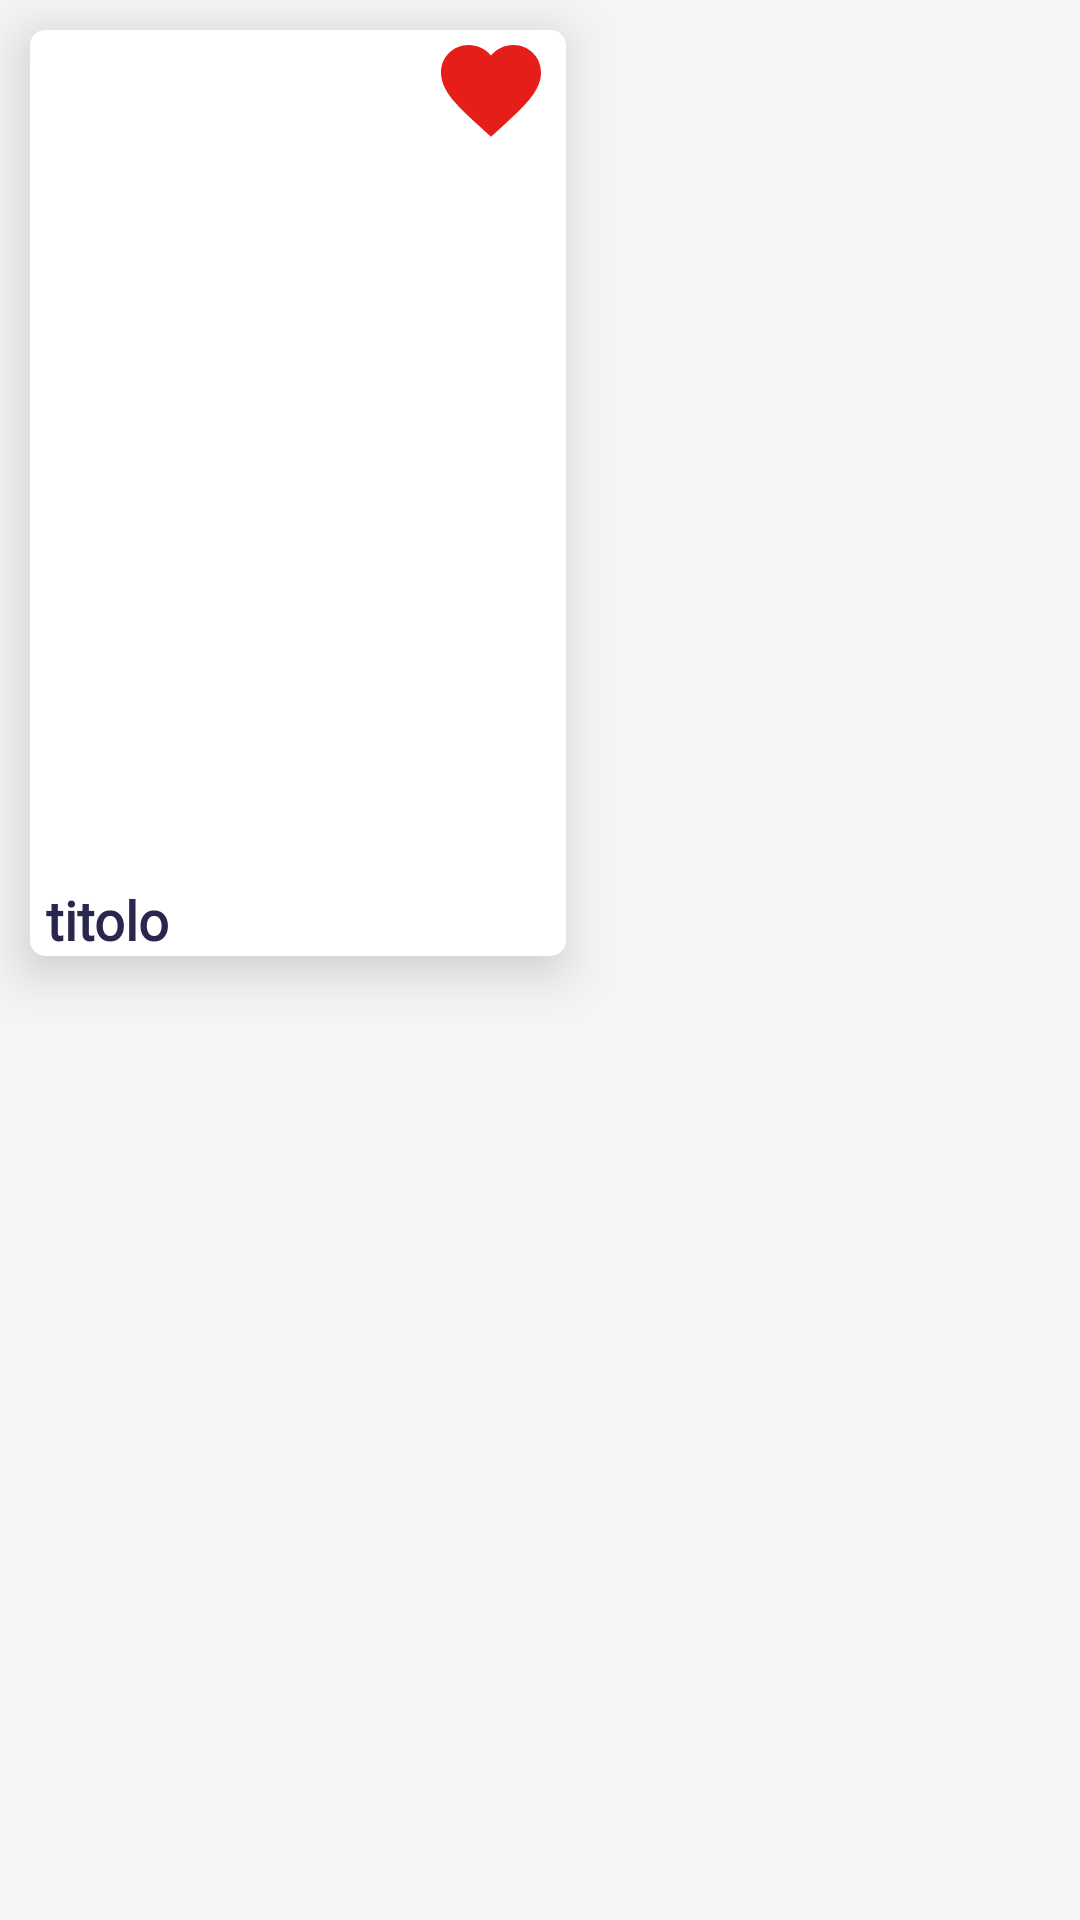

Screen size 1080x1920. Icon name, then its box in pixels as (x1, y1, x2, y2):
favorite: (441, 45, 541, 137)
